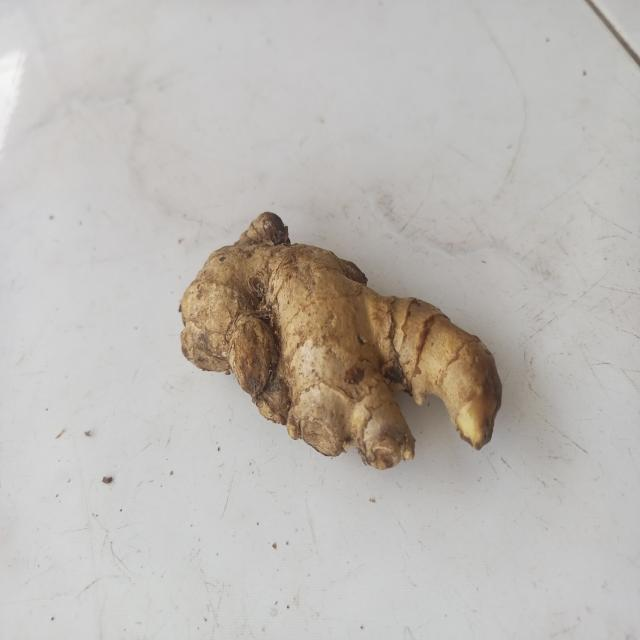ginger: (181, 214, 498, 466)
